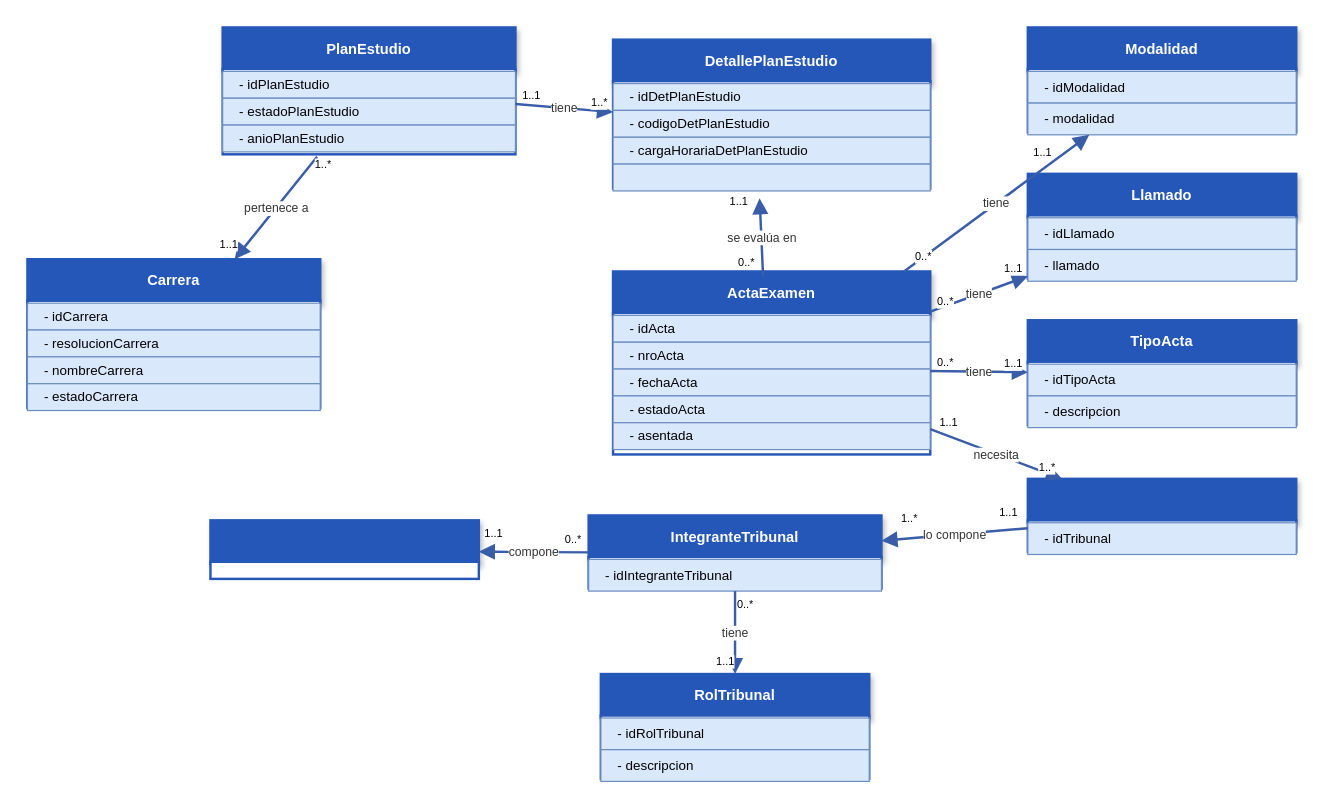
The diagram is 1325 pixels wide and 803 high, and some of its shapes have lost their labels. The centre of each missing label's shape, as x and y in pixels:
- anioCursoDetPlanEstudio: point 771,177
Docente: point 345,543
Tribunal: point 1162,502
